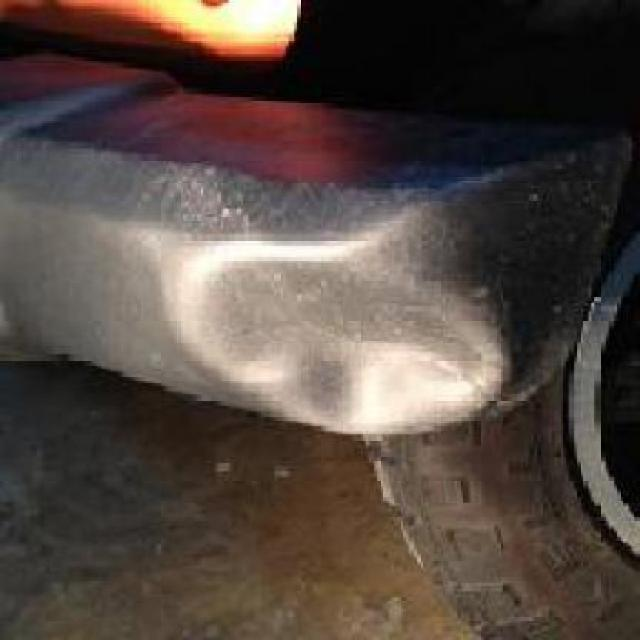dent-or-scratch: (176, 225, 522, 438)
